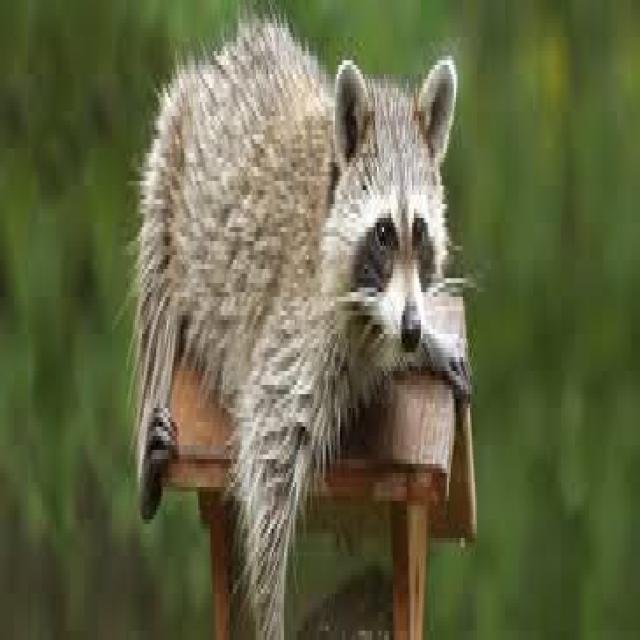Raccoon: (127, 22, 462, 582)
